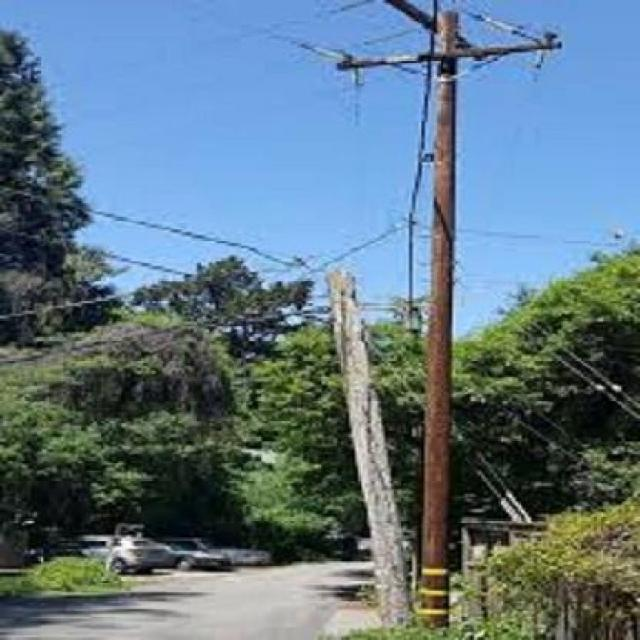pole: (380, 1, 569, 640)
